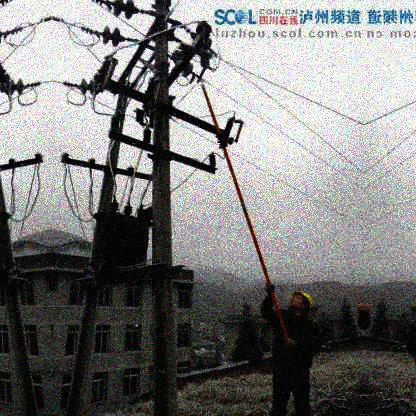helmet: (287, 289, 315, 318)
